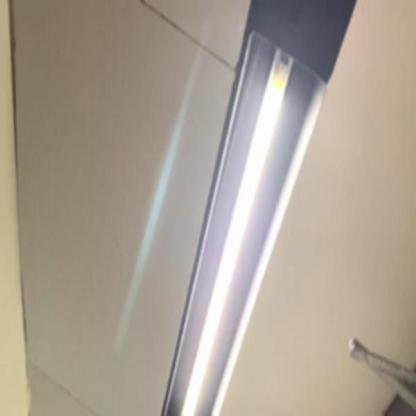light_on: (179, 42, 299, 415)
